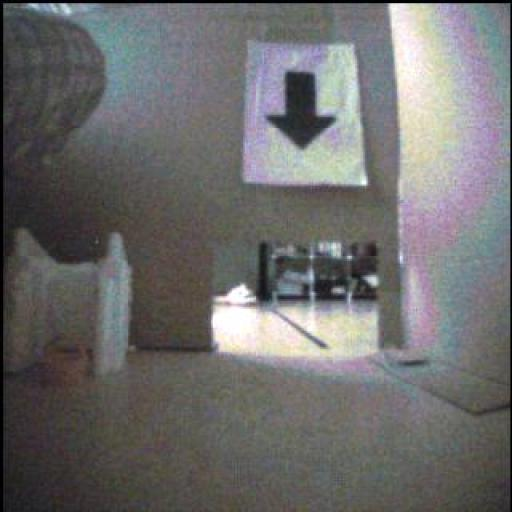arrow: (268, 73, 337, 150)
